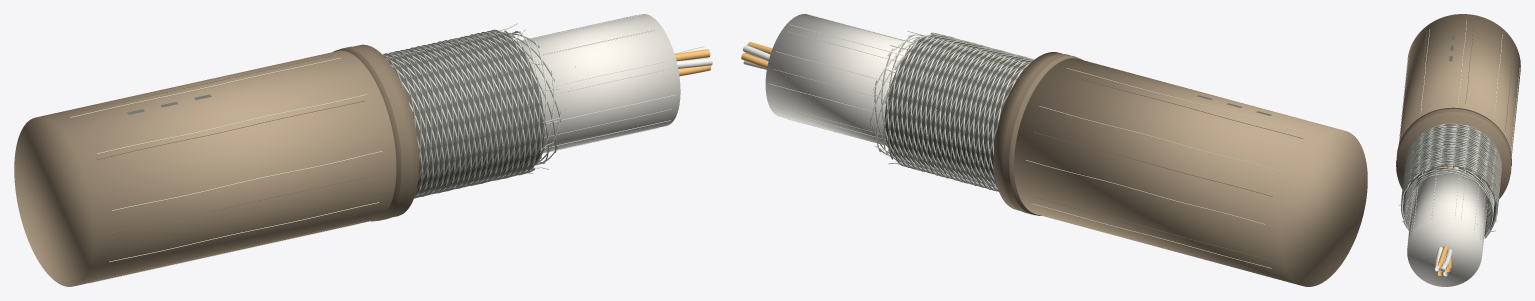
File: rf-sucoflex104-macro.glb
3 views of the same model, side by side, from view 1: azimuth 30°, elevation 25°; view 2: azimuth 150°, elevation 25°; view 3: azimuth 270°, elevation 25° (orthographic). The views are drawn at different scales.
Parts seen in each view (by area): view 1: macro jacket body, macro dielectric exposed core, shadow seen through braid windows, thick jacket cut wall, rounded jacket cut lip, macro braid shadow carrier 07 strand 1, macro braid shadow carrier 05 strand 1, macro braid shadow carrier 04 strand 1, macro braid shadow carrier 06 strand 1, macro braid shadow carrier 08 strand 1, macro braid shadow carrier 12 strand 1, macro braid shadow carrier 03 strand 1 (+5 smaller); view 2: macro jacket body, macro dielectric exposed core, shadow seen through braid windows, thick jacket cut wall, rounded jacket cut lip, macro braid shadow carrier 01 strand 1, macro braid shadow carrier 02 strand 1, macro braid shadow carrier 03 strand 1, macro braid shadow carrier 12 strand 1, macro braid shadow carrier 04 strand 1, macro braid shadow carrier 11 strand 1, macro braid shadow carrier 08 strand 1 (+5 smaller); view 3: macro jacket body, macro dielectric exposed core, thick jacket cut wall, shadow seen through braid windows, macro braid shadow carrier 06 strand 2, macro braid shadow carrier 08 strand 2, macro braid shadow carrier 11 strand 2, macro braid shadow carrier 10 strand 2, macro braid shadow carrier 04 strand 2, macro braid shadow carrier 09 strand 2, macro braid shadow carrier 05 strand 2, rounded jacket cut lip (+39 smaller).
Part boxes in pixels (x1,y1,x2,y2): macro jacket body: (14,50,396,286); macro dielectric exposed core: (516,14,680,152); shadow seen through braid windows: (388,32,544,193); thick jacket cut wall: (333,44,419,221); rounded jacket cut lip: (339,46,408,220); macro braid shadow carrier 07 strand 1: (425,30,523,195); macro braid shadow carrier 05 strand 1: (415,32,513,197); macro braid shadow carrier 04 strand 1: (410,33,507,197); macro braid shadow carrier 06 strand 1: (421,31,518,196); macro braid shadow carrier 08 strand 1: (432,30,529,194); macro braid shadow carrier 12 strand 1: (389,38,544,189); macro braid shadow carrier 03 strand 1: (405,35,502,195); macro jacket body: (1014,58,1367,286); macro dielectric exposed core: (765,14,914,145); shadow seen through braid windows: (884,36,1030,186); thick jacket cut wall: (993,52,1083,215); rounded jacket cut lip: (1003,54,1077,215); macro braid shadow carrier 01 strand 1: (902,43,1032,184); macro braid shadow carrier 02 strand 1: (898,41,1029,183); macro braid shadow carrier 03 strand 1: (893,40,1025,182); macro braid shadow carrier 12 strand 1: (907,44,1033,185); macro braid shadow carrier 04 strand 1: (888,39,1022,180); macro braid shadow carrier 11 strand 1: (912,45,1031,186); macro braid shadow carrier 08 strand 1: (911,34,1007,191); macro jacket body: (1398,14,1520,155); macro dielectric exposed core: (1407,169,1487,286); thick jacket cut wall: (1396,107,1511,198); shadow seen through braid windows: (1403,125,1495,234); macro braid shadow carrier 06 strand 2: (1403,139,1501,195); macro braid shadow carrier 08 strand 2: (1401,123,1501,196); macro braid shadow carrier 11 strand 2: (1401,128,1500,219); macro braid shadow carrier 10 strand 2: (1402,126,1500,198); macro braid shadow carrier 04 strand 2: (1402,136,1499,237); macro braid shadow carrier 09 strand 2: (1402,124,1500,198); macro braid shadow carrier 05 strand 2: (1401,138,1501,216); rounded jacket cut lip: (1396,109,1511,173).
Size of the model in its own units: 6.46 by 1.54 by 1.66.
